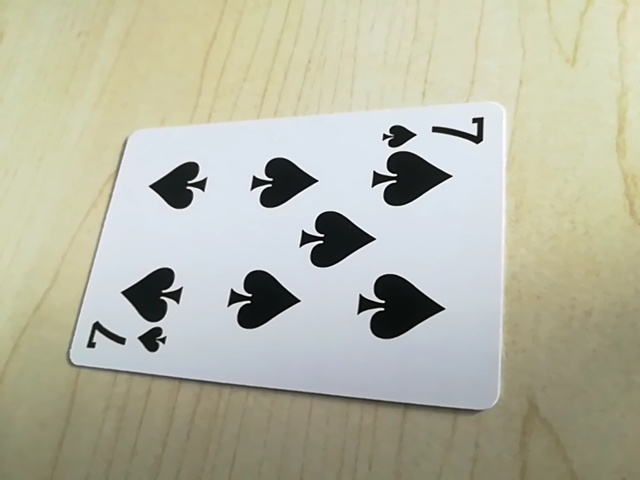ht 7: (376, 112, 489, 150), (76, 321, 177, 361)
